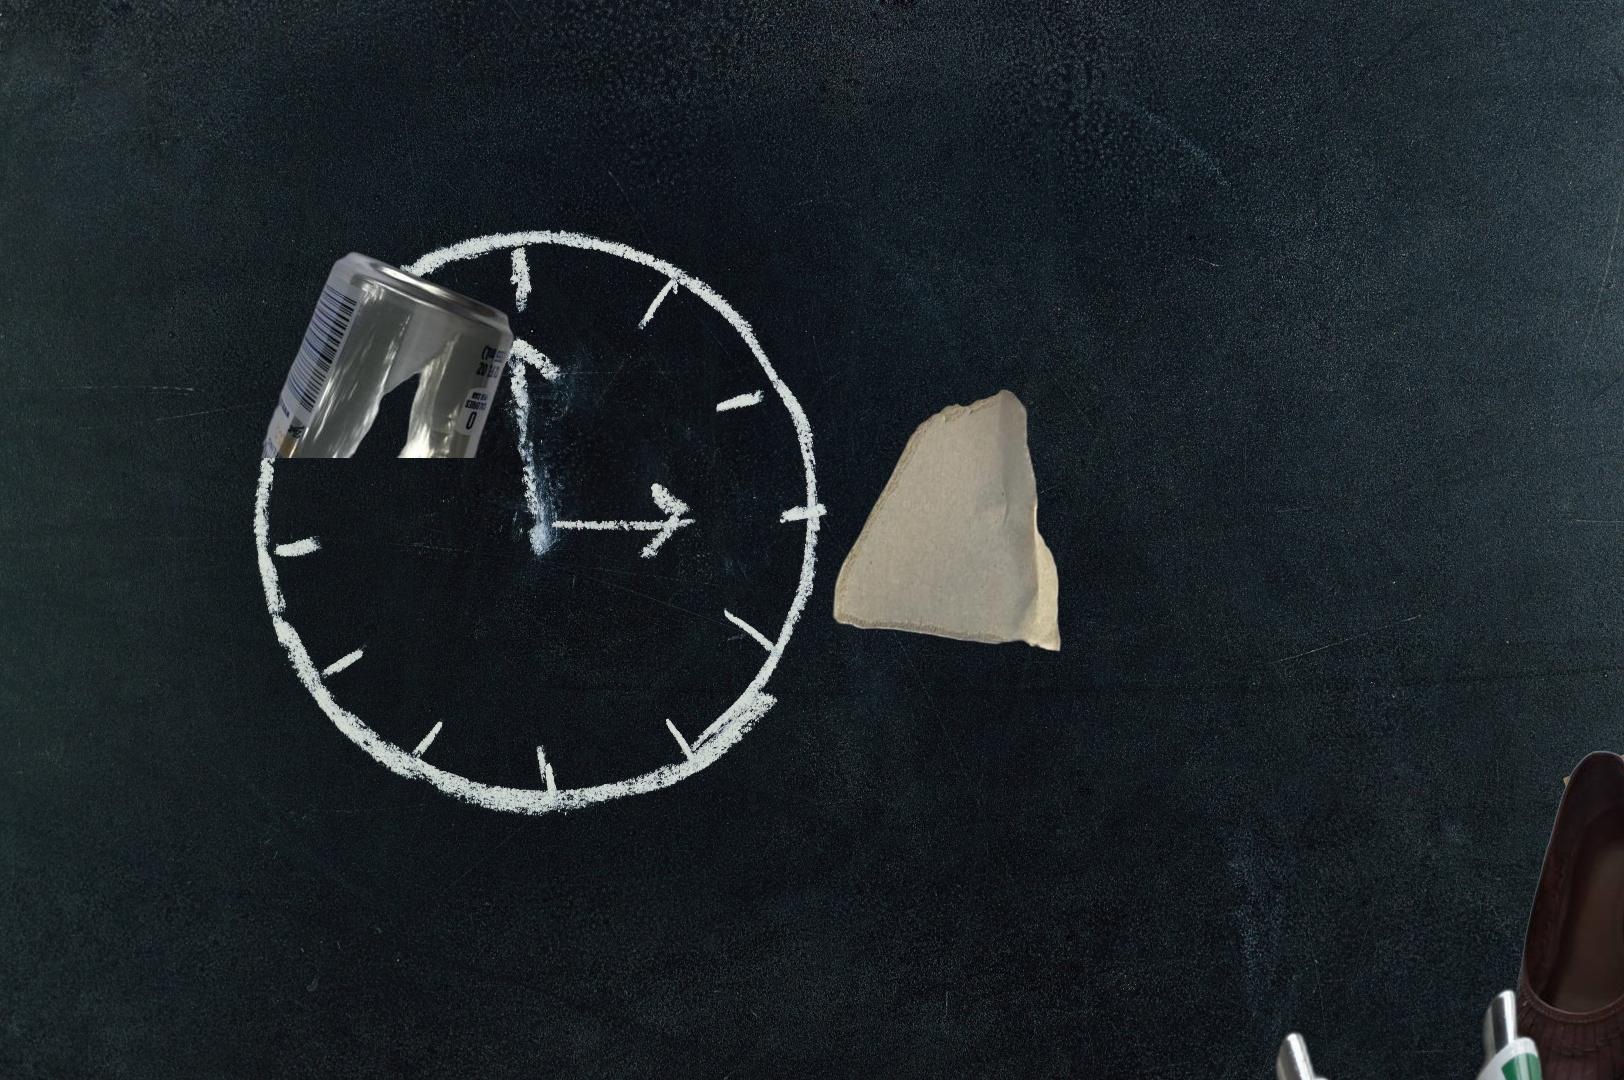metal-cans: (257, 249, 518, 458)
paper: (828, 387, 1065, 656)
paper-bag: (1555, 736, 1624, 886)
penholder: (1257, 980, 1624, 1080)
shoes: (1510, 746, 1624, 1080)
